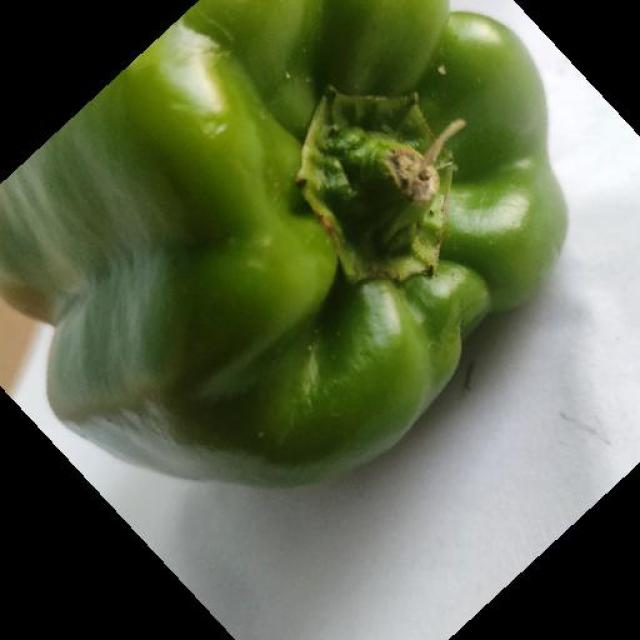Fresh_Capsicum: (4, 3, 580, 452)
